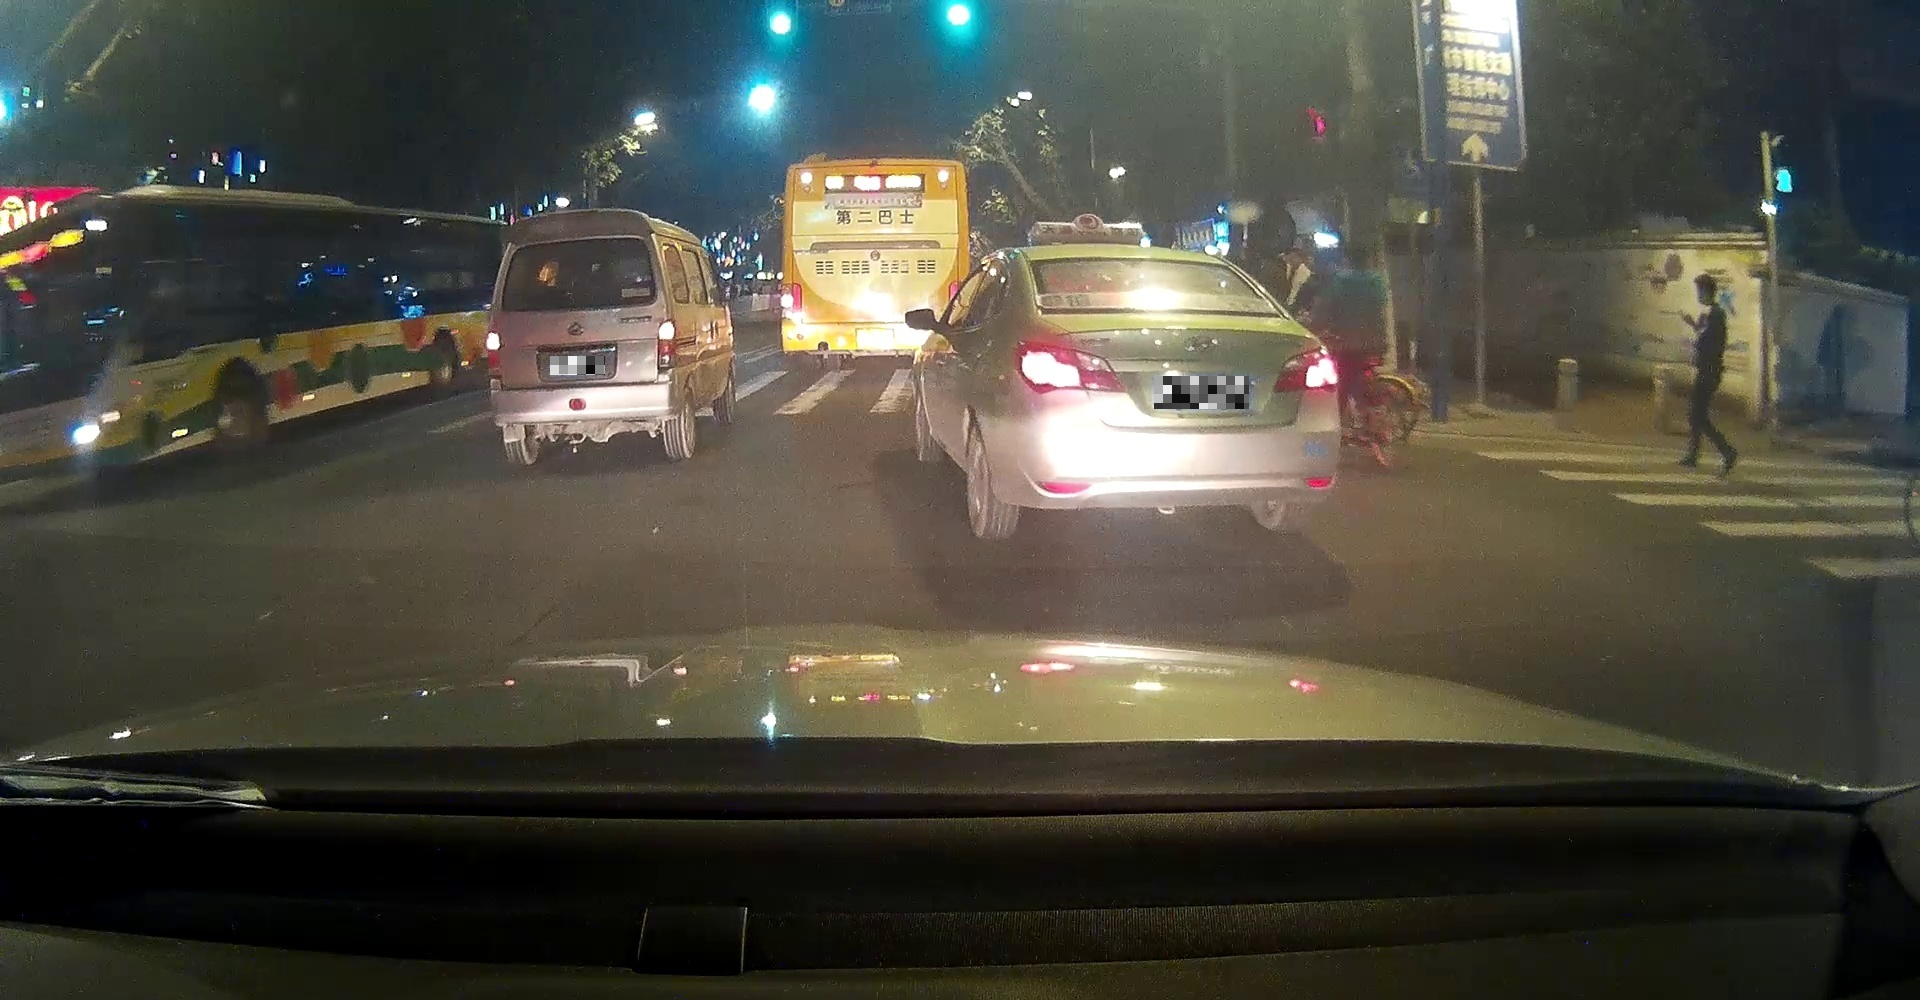L_light: (1017, 341, 1128, 393), (484, 331, 502, 369)
R_light: (1274, 345, 1338, 392), (657, 320, 676, 368)
T_light: (1117, 258, 1164, 266), (555, 242, 585, 249)
night-no: (1013, 246, 1343, 542), (485, 208, 678, 464)
plate_1: (550, 357, 604, 376)
plate_2: (1154, 376, 1250, 409)
